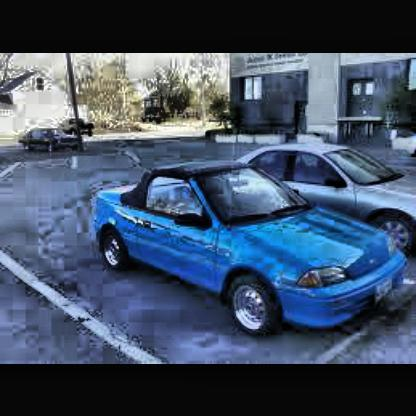Geo Metro Convertible 1993: (93, 161, 412, 340)
